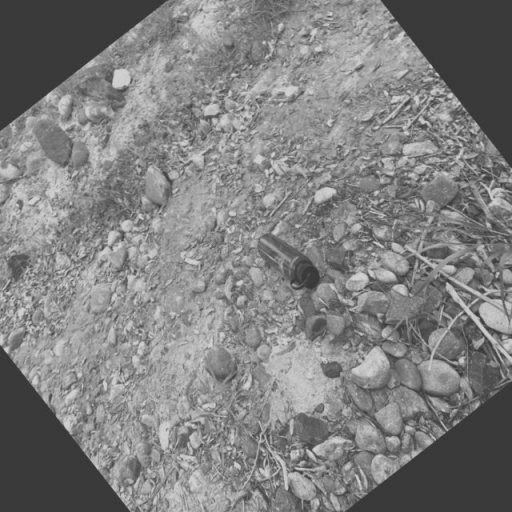bottle: (252, 221, 326, 302)
